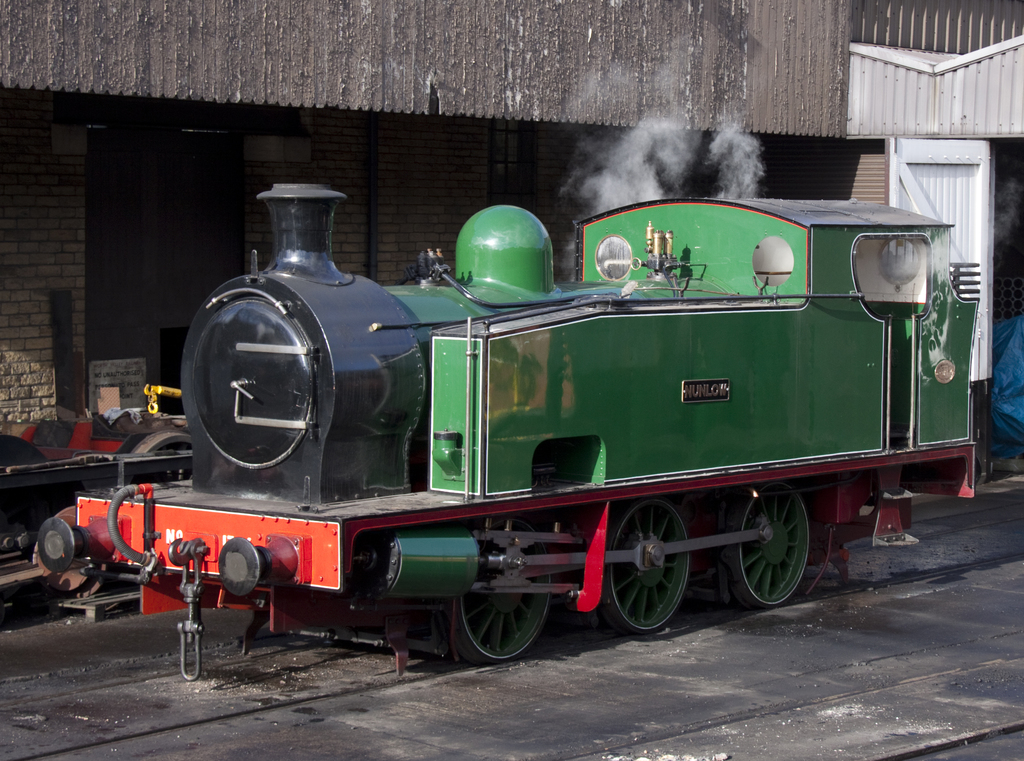train: (37, 182, 974, 679)
